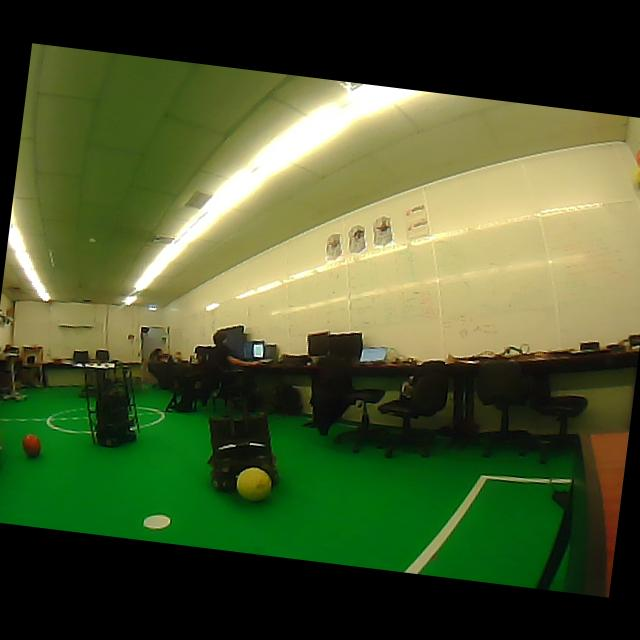ball: (235, 466, 271, 502), (22, 434, 40, 457)
robot: (208, 395, 278, 491), (84, 363, 139, 446)
